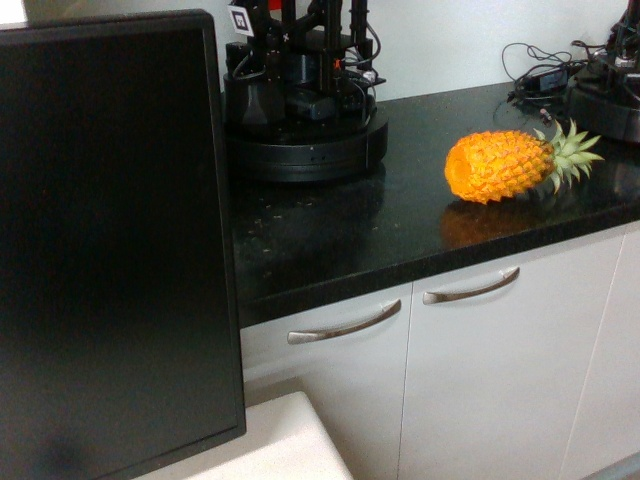pineapple: (440, 124, 605, 204)
